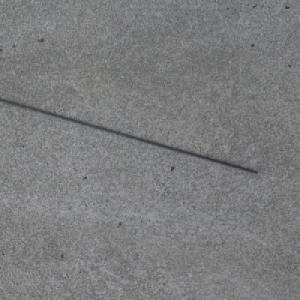LuggagePart: (0, 97, 261, 174)
